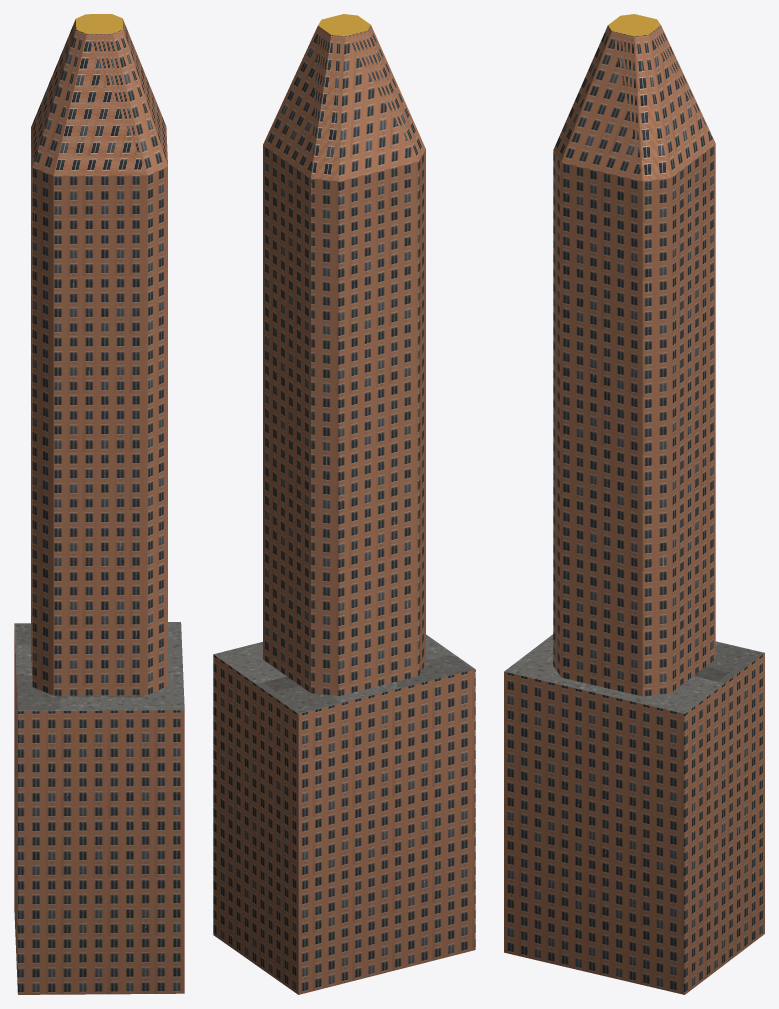
The picture shows the model from 3 angles, left to right: view 1: azimuth 30°, elevation 25°; view 2: azimuth 150°, elevation 25°; view 3: azimuth 270°, elevation 25°; orthographic projection.
Visible parts, largest first — view 1: ge570; view 2: ge570; view 3: ge570.
Part boxes in pixels (box(x1,y1,x2,y2)): ge570: box(14, 14, 184, 994); ge570: box(213, 14, 475, 994); ge570: box(504, 14, 764, 994).
Size of the model in its own units: 47.38 by 196 by 50.5.
Materials: 6 (5 with a texture image).
